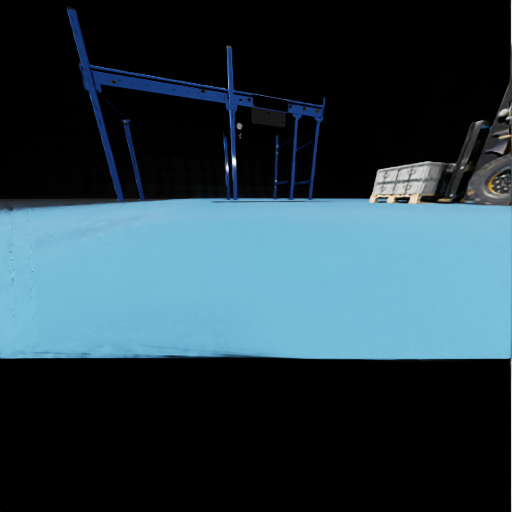transportation_area: (393, 179, 447, 194)
